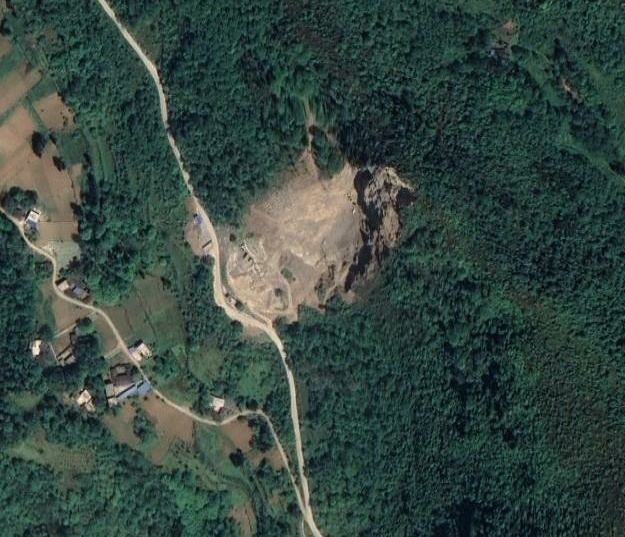slope: (222, 136, 421, 329)
